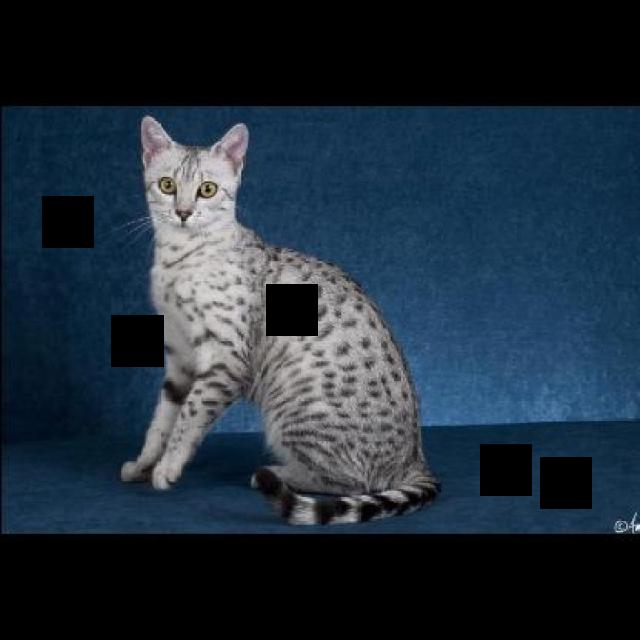unauthorized: (114, 114, 440, 526)
